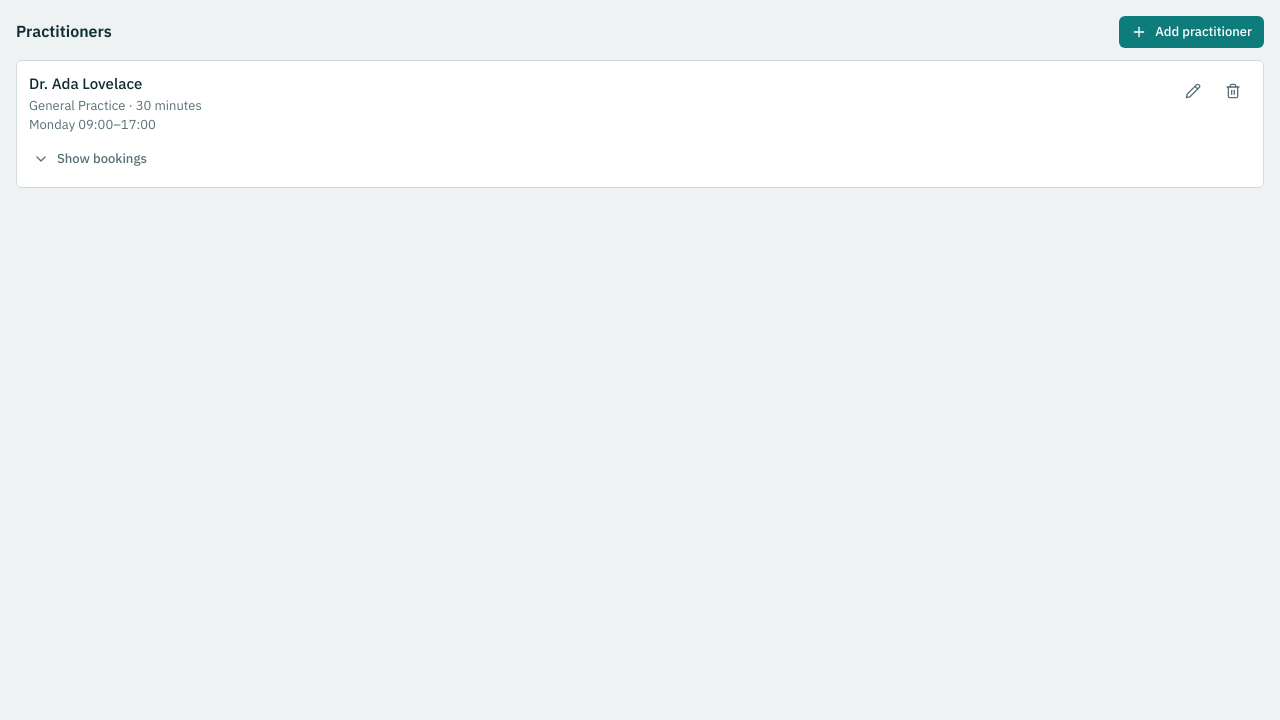
Test case: PractitionerAdmin: the roster reads as a record › names what a refused save failed at, while the edit view is still open
Press the mouse on the button named "Edit Dr. Ada Lovelace" at (1193, 91), box x1=1175 y1=73 x2=1211 y2=109
Click the button named "Edit Dr. Ada Lovelace" at (1193, 91), box x1=1175 y1=73 x2=1211 y2=109
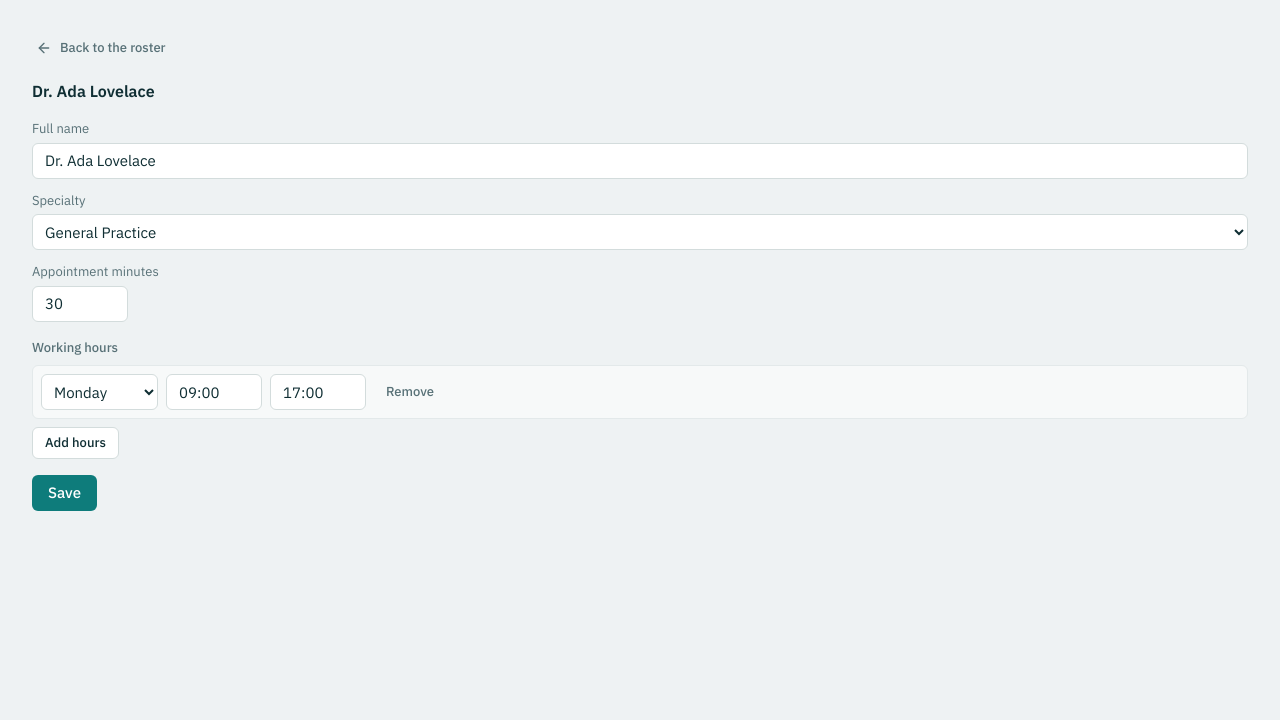
Click the button "Save" at (64, 493), box x1=32 y1=475 x2=97 y2=511
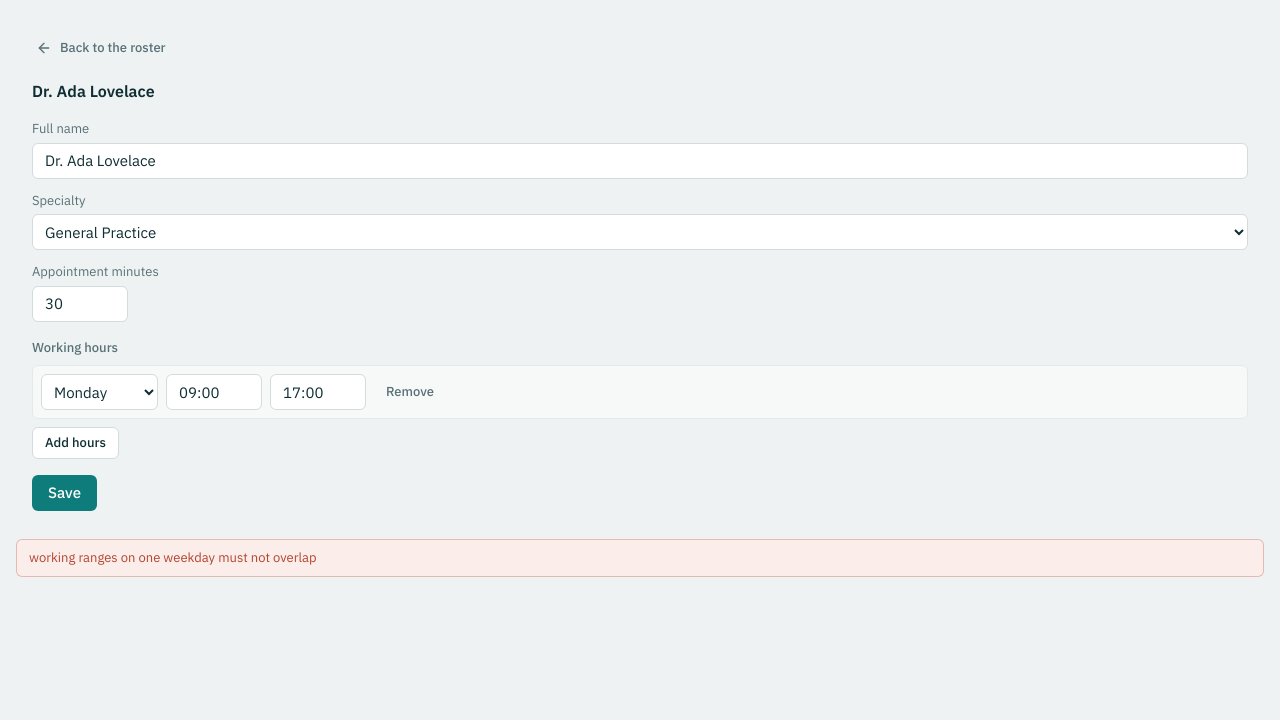
Result: the element with test id "practitioner-edit" is shown
Result: the message with test id "practitioner-error" shows "must not overlap" at x1=29 y1=549 x2=316 y2=566
